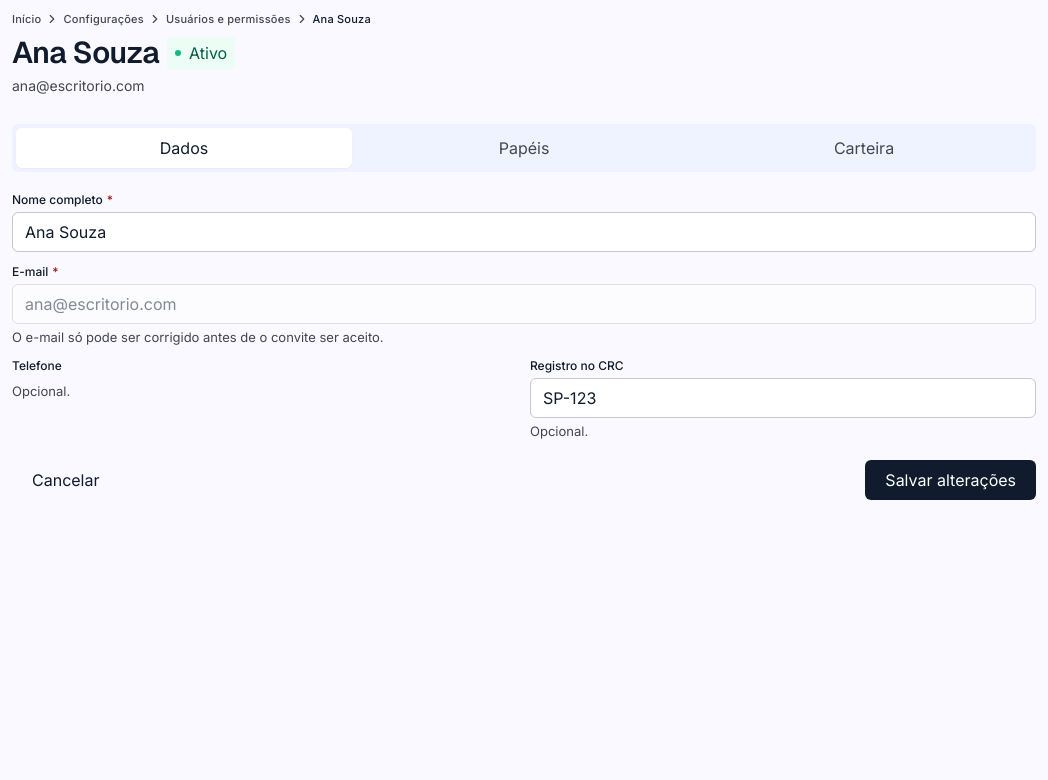
Test: abas Dados e Papéis (administrador) › usuário ativo precisa manter ao menos um papel: sem papel não salva
Expected: the field labelled "Nome completo*" is shown, [12,212,1036,252]
Click the tab "Papéis": (524, 148) [356,128,692,168]
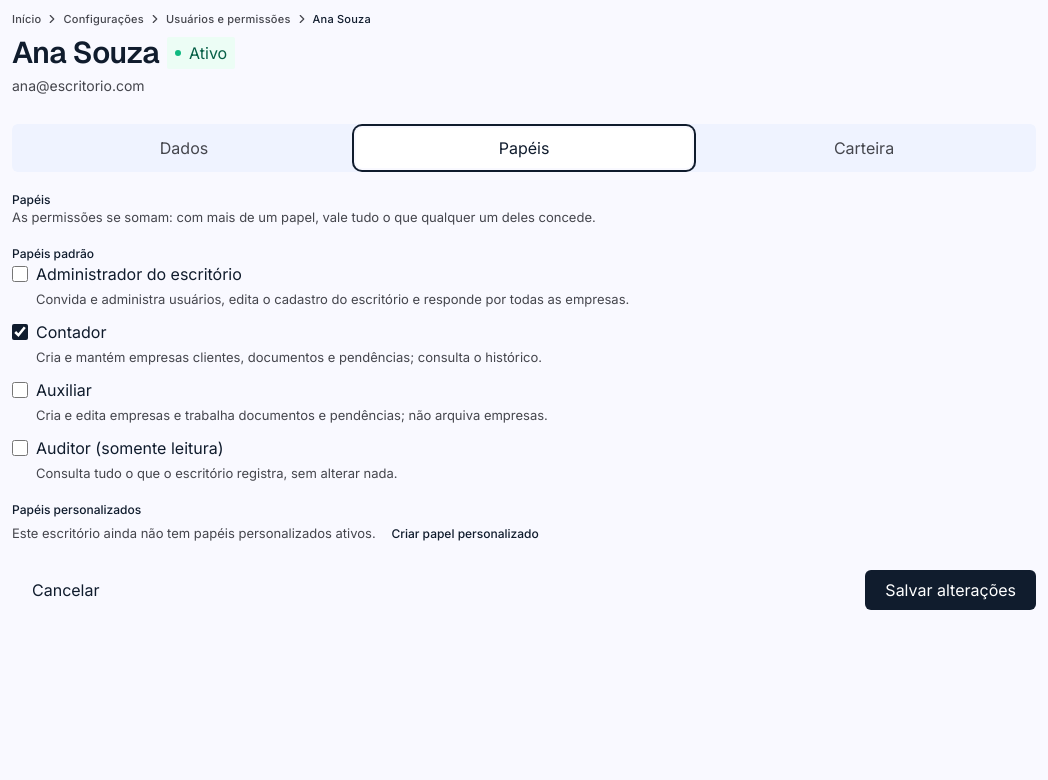
Click the checkbox labelled "Contador": (20, 332) [12,324,28,340]
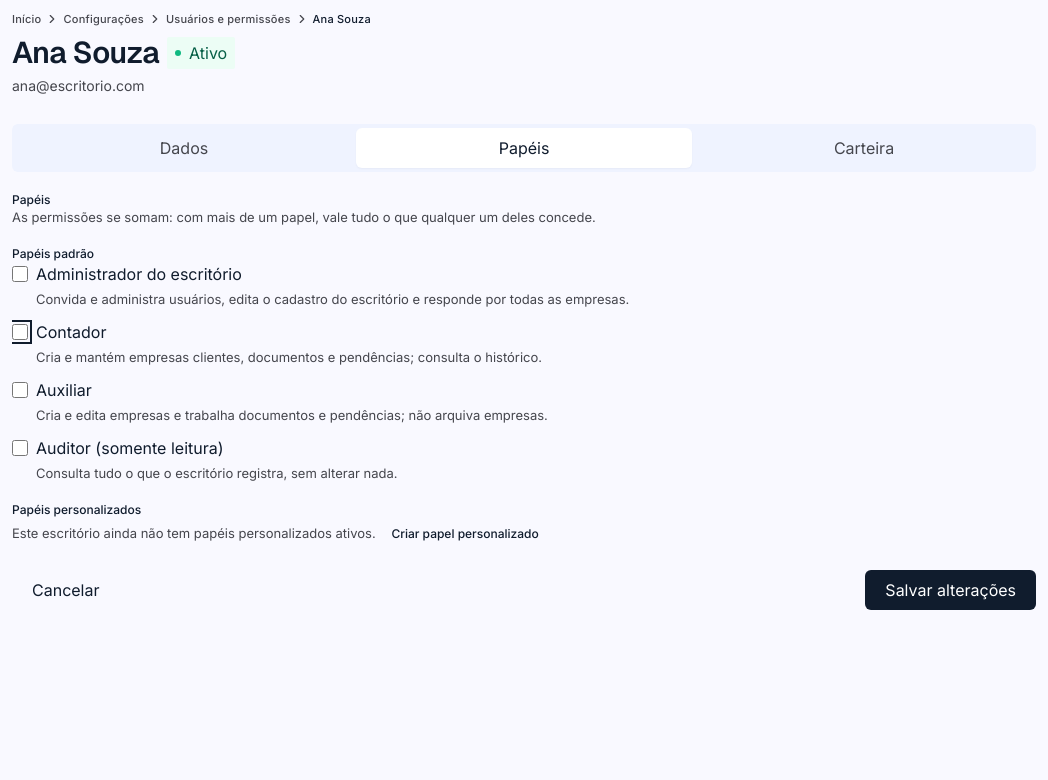
Click the button "Salvar alterações": (951, 590) [865,570,1036,610]
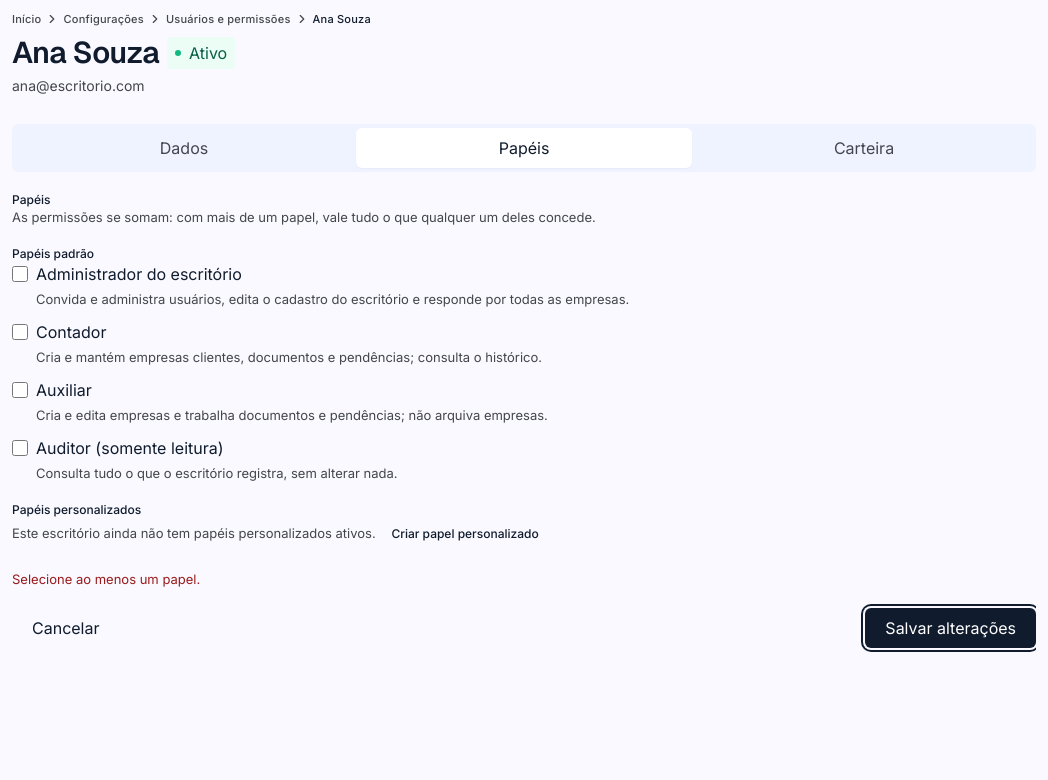
Now the text "Selecione ao menos um papel." is shown, box [12,571,200,587]
